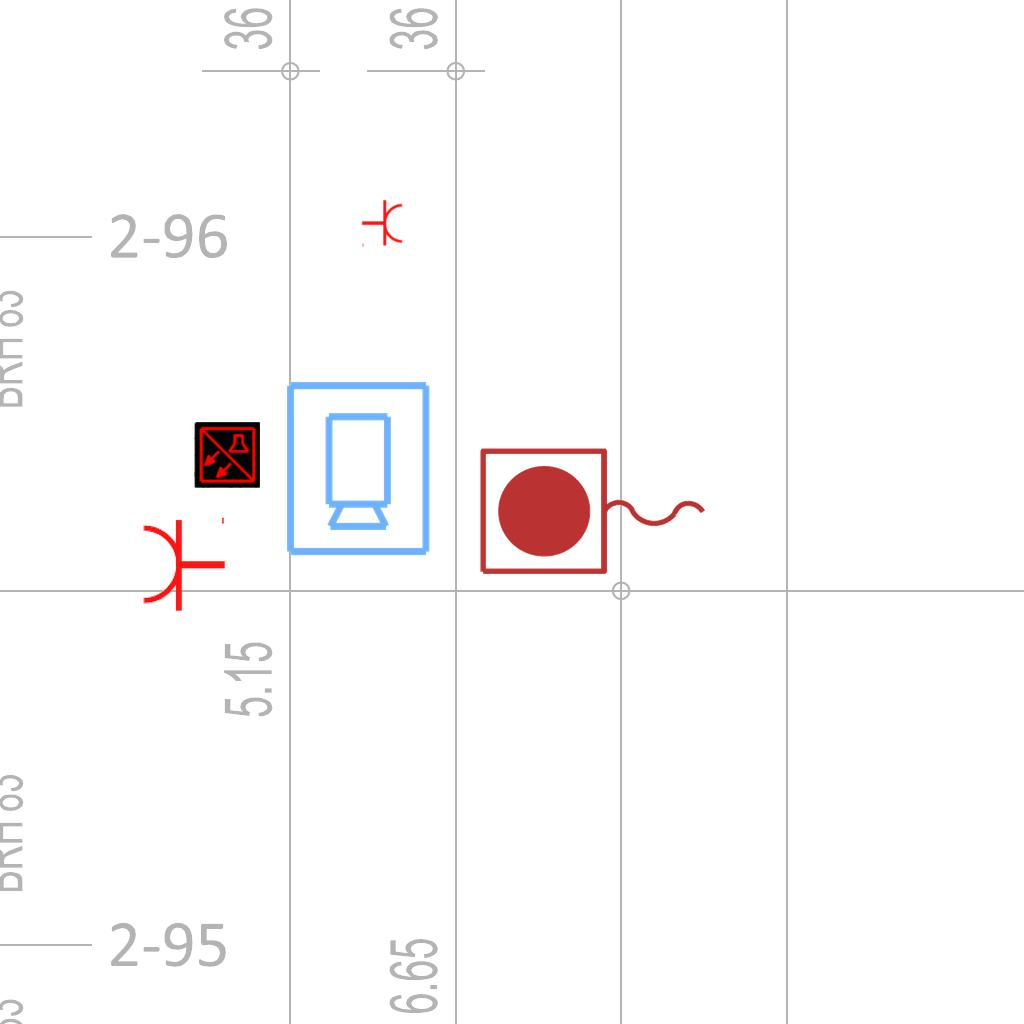KFO_Kamera_mit_Festobjektiv: (280, 377, 434, 559)
OKW_Multisensormelder_(Kombination_optischer_Rauch-Kahlenmonoxid_Waerme-Melder): (194, 422, 260, 488)
Schukosteckdose_einfach: (140, 513, 227, 613), (361, 199, 404, 249)
Zugtaster: (472, 441, 716, 585)
